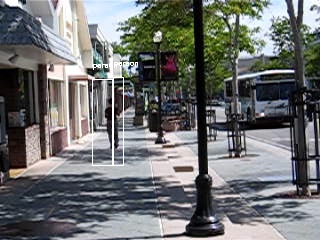person: (105, 98, 122, 150), (104, 98, 121, 150), (106, 98, 123, 150), (105, 97, 122, 149), (105, 99, 122, 151)
target_negative: (128, 96, 265, 233), (86, 77, 163, 181), (185, 119, 320, 174), (268, 72, 303, 217), (119, 58, 152, 211), (123, 152, 135, 214)
